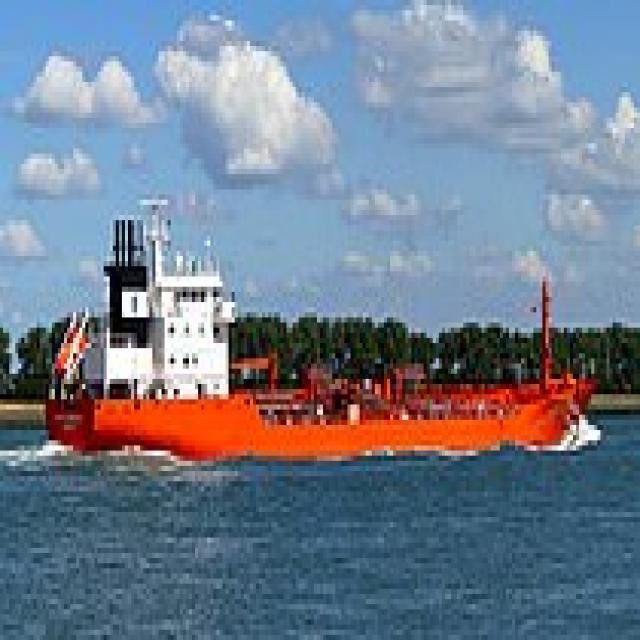Tanker: (39, 190, 604, 456)
